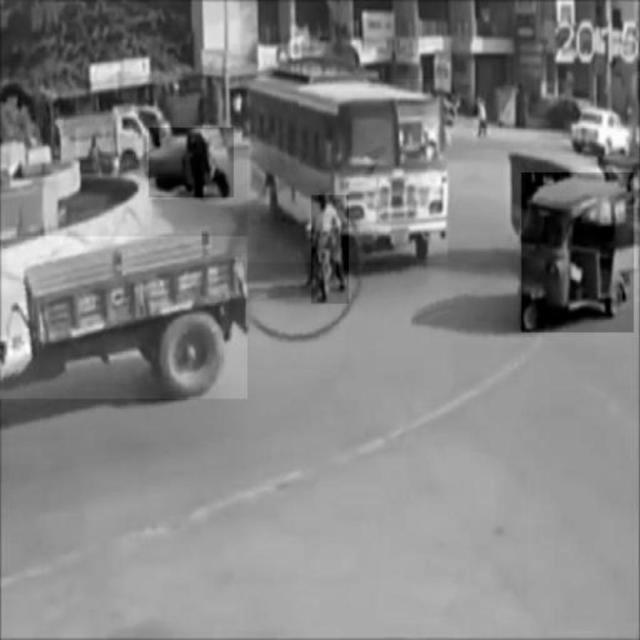vehicle: (0, 236, 247, 398), (248, 79, 448, 263), (521, 173, 633, 333), (149, 128, 233, 199), (312, 196, 349, 304)
